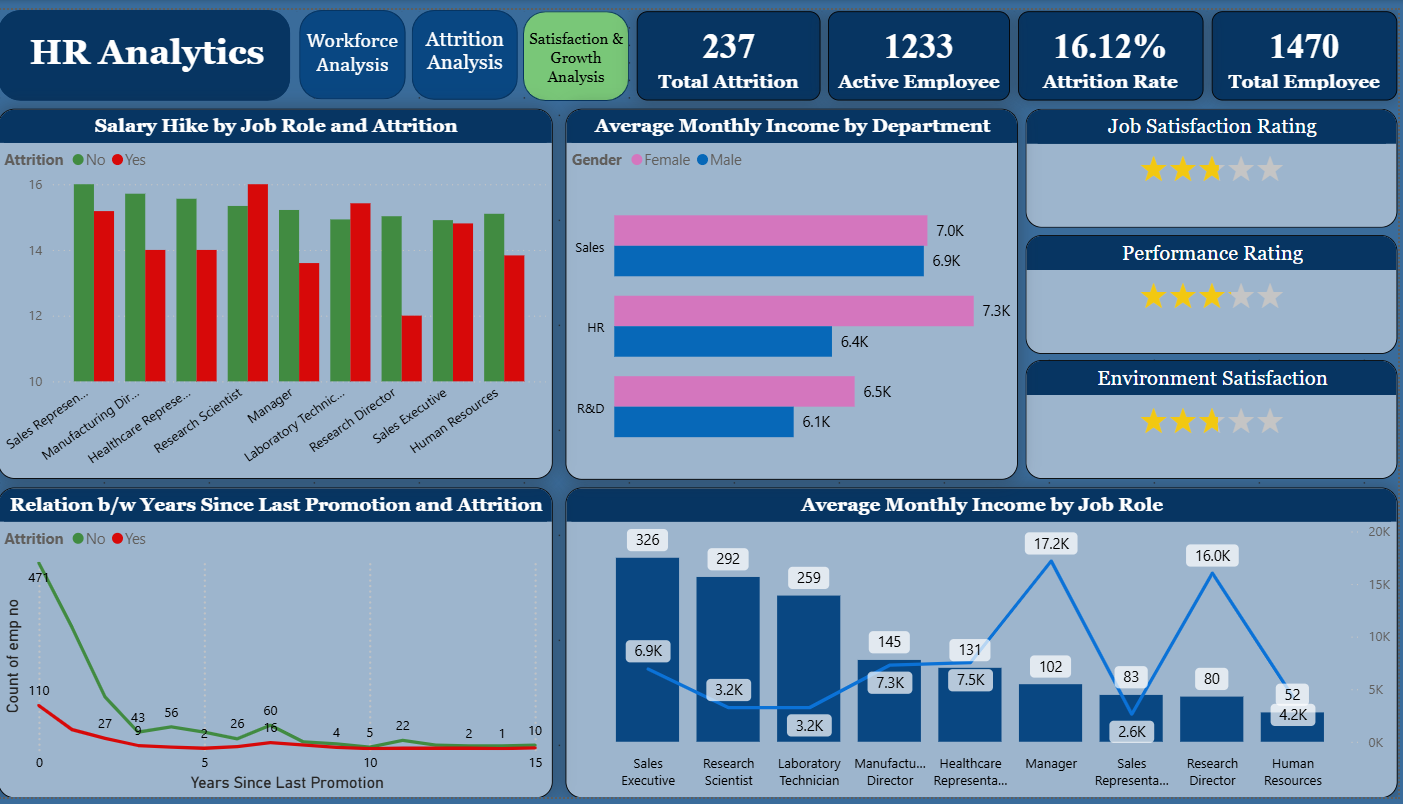

This screenshot's page, from the dashboard's own definition file:
{"tool":"powerbi","page":{"name":"Compensation, Satisfaction & Growth","canvas":[1280,720],"ordinal":2},"visuals":[{"type":"lineStackedColumnComboChart","title":"Average Monthly Income by Job Role","fields":{"Category":["HR data.Job Role"],"Y2":["Avg(HR data.Monthly Income)"],"Y":["CountNonNull(HR data.emp no)"]},"box":[518.6,436.4,760.5,284.3],"z":0},{"type":"card","fields":{"Values":["CountNonNull(HR data.Employee Count)"]},"box":[1109.2,1.4,169.4,81.4],"z":1000},{"type":"shape","box":[275,0,97.2,81.9],"z":2000},{"type":"actionButton","box":[274.3,1.2,99.7,81],"z":3000},{"type":"lineChart","title":"Relation b/w Years Since Last Promotion and Attrition","fields":{"Category":["HR data.Years Since Last Promotion"],"Y":["CountNonNull(HR data.emp no)"],"Series":["HR data.Attrition"]},"box":[0,436.4,507.4,284.3],"z":4000},{"type":"shape","box":[377.9,0,97.1,82],"z":5000},{"type":"actionButton","box":[377.8,1.2,99.7,81],"z":6000},{"type":"ratingsvisual001","title":"Performance Rating","fields":{"measure":["Avg(HR data.Performance Rating)"]},"box":[939.6,205.7,340.4,108.5],"z":7000},{"type":"shape","box":[479.6,1.3,97.1,82],"z":8000},{"type":"actionButton","box":[481.2,1.2,97.2,81],"z":9000},{"type":"card","fields":{"Values":["CountNonNull(HR data.Attrition)"]},"box":[584.3,1.4,168,81.4],"z":10000},{"type":"textbox","box":[275.5,11.2,97.2,59.8],"z":11000},{"type":"textbox","box":[377.8,11.2,97.2,59.8],"z":12000},{"type":"card","fields":{"Values":["HR data.Attretion Rate"]},"box":[932.8,1.4,169.4,81.4],"z":13000},{"type":"textbox","box":[480,11.2,97.2,71.1],"z":14000},{"type":"card","fields":{"Values":["CountNonNull(HR data.Attrition)"]},"box":[759.2,1.4,166.6,81.4],"z":15000},{"type":"shape","box":[0,0,267.1,82.9],"z":16000},{"type":"textbox","box":[24.3,14.3,242.9,68.6],"z":17000},{"type":"actionButton","box":[274.3,2.3,99.7,81],"z":18000},{"type":"actionButton","box":[377.8,2.3,99.7,81],"z":19000},{"type":"actionButton","box":[480,1.2,97.2,81],"z":20000},{"type":"ratingsvisual001","title":"Job Satisfaction Rating","fields":{"measure":["Avg(HR data.Job Satisfaction)"]},"box":[939.6,89.8,340.4,108.5],"z":21000},{"type":"ratingsvisual001","title":"Environment Satisfaction","fields":{"measure":["Avg(HR data.Environment Satisfaction)"]},"box":[939.6,320.4,340.4,108.5],"z":22000},{"type":"clusteredBarChart","title":"Average Monthly Income by Department","fields":{"Category":["HR data.Department"],"Y":["Avg(HR data.Monthly Income)"],"Series":["HR data.Gender"]},"box":[518.6,89.8,413.9,339.1],"z":23000},{"type":"clusteredColumnChart","title":"Salary Hike by Job Role and Attrition","fields":{"Category":["HR data.Job Role"],"Y":["Avg(HR data.Percent Salary Hike)"],"Series":["HR data.Attrition"]},"box":[0,90,507.1,338.6],"z":23001}]}

Visuals, with their boxes in screenshot pixels (x1, y1, x2, y2), scaled from the page's 1280x720 canvas onto the 1403x804 screenshot:
"Average Monthly Income by Job Role" lineStackedColumnComboChart: (left=568, top=487, right=1402, bottom=803)
card - CountNonNull(HR data.Employee Count): (left=1216, top=2, right=1401, bottom=92)
shape: (left=301, top=0, right=408, bottom=91)
actionButton: (left=301, top=1, right=410, bottom=92)
"Relation b/w Years Since Last Promotion and Attrition" lineChart: (left=0, top=487, right=556, bottom=803)
shape: (left=414, top=0, right=521, bottom=92)
actionButton: (left=414, top=1, right=523, bottom=92)
"Performance Rating" ratingsvisual001: (left=1030, top=230, right=1402, bottom=351)
shape: (left=526, top=1, right=632, bottom=93)
actionButton: (left=527, top=1, right=634, bottom=92)
card - CountNonNull(HR data.Attrition): (left=640, top=2, right=825, bottom=92)
textbox: (left=302, top=13, right=409, bottom=79)
textbox: (left=414, top=13, right=521, bottom=79)
card - HR data.Attretion Rate: (left=1022, top=2, right=1208, bottom=92)
textbox: (left=526, top=13, right=633, bottom=92)
card - CountNonNull(HR data.Attrition): (left=832, top=2, right=1015, bottom=92)
shape: (left=0, top=0, right=293, bottom=93)
textbox: (left=27, top=16, right=293, bottom=93)
actionButton: (left=301, top=3, right=410, bottom=93)
actionButton: (left=414, top=3, right=523, bottom=93)
actionButton: (left=526, top=1, right=633, bottom=92)
"Job Satisfaction Rating" ratingsvisual001: (left=1030, top=100, right=1402, bottom=221)
"Environment Satisfaction" ratingsvisual001: (left=1030, top=358, right=1402, bottom=479)
"Average Monthly Income by Department" clusteredBarChart: (left=568, top=100, right=1022, bottom=479)
"Salary Hike by Job Role and Attrition" clusteredColumnChart: (left=0, top=100, right=556, bottom=479)
